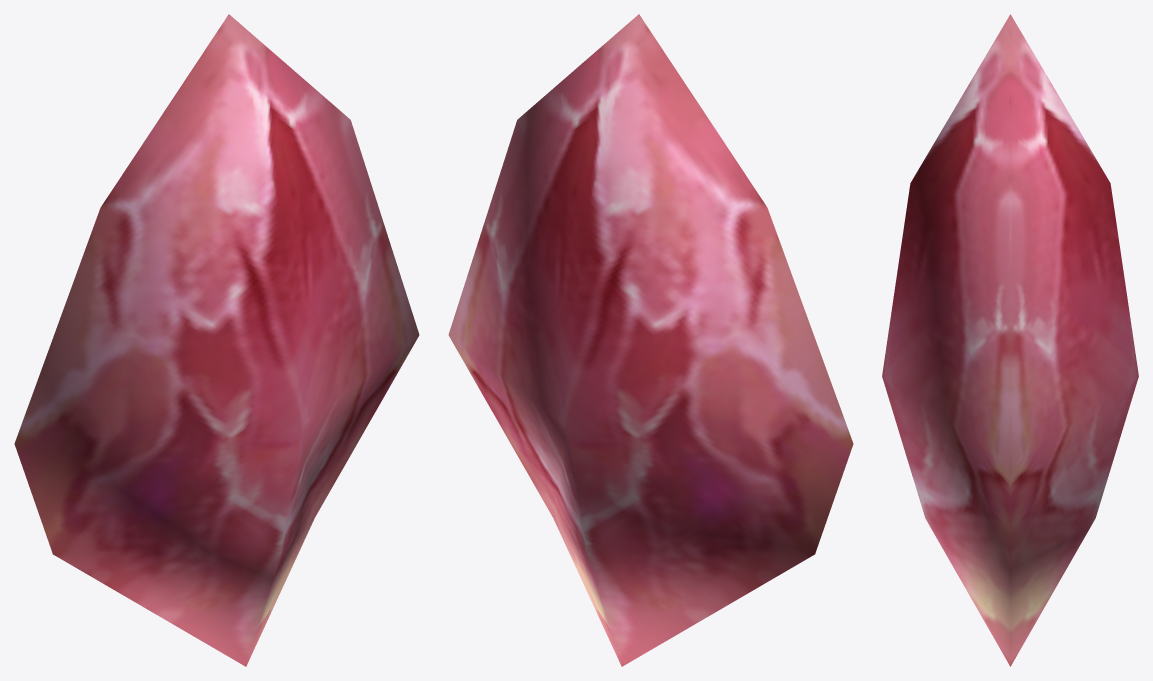
File: wocaishi01.FBX
3 renders of one model, left to right at view 1: azimuth 30°, elevation 25°; view 2: azimuth 150°, elevation 25°; view 3: azimuth 270°, elevation 25°, orthographic.
Parts seen in each view (by area): view 1: wucaishi01; view 2: wucaishi01; view 3: wucaishi01.
Part boxes in pixels (bbox=[...]): wucaishi01: bbox=[14, 14, 419, 666]; wucaishi01: bbox=[448, 14, 853, 666]; wucaishi01: bbox=[882, 14, 1138, 666].
Bounding box in the file's own units: 24.53 × 38.03 × 13.74.
